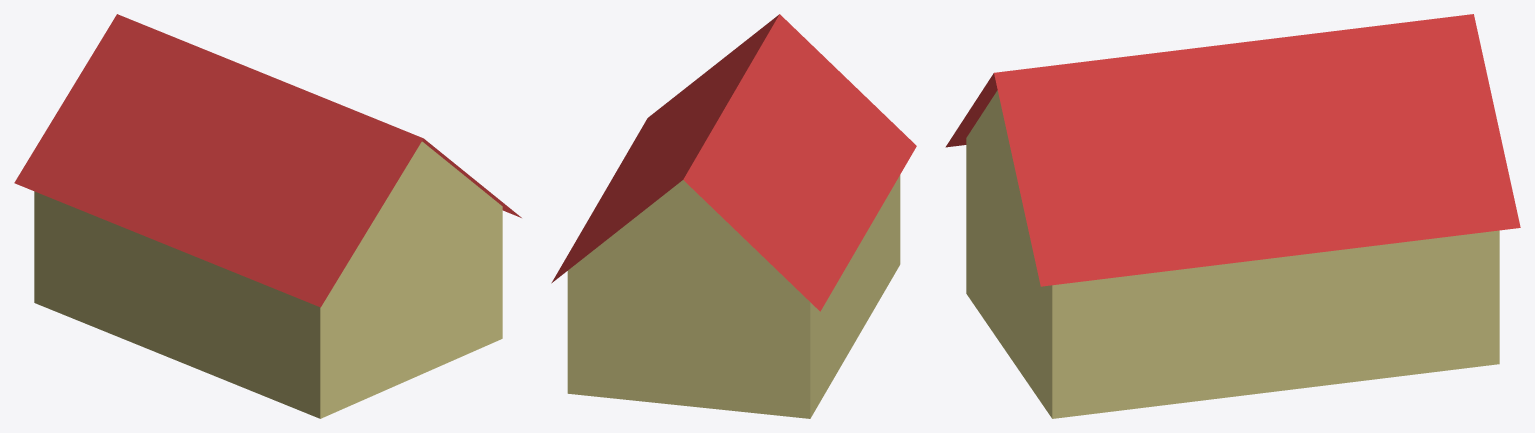
3 renders of one model, left to right at view 1: azimuth 30°, elevation 25°; view 2: azimuth 150°, elevation 25°; view 3: azimuth 270°, elevation 25°, orthographic. The views are drawn at different scales.
Bounding box in the file's own units: 20.81 × 25.56 × 14.05.
